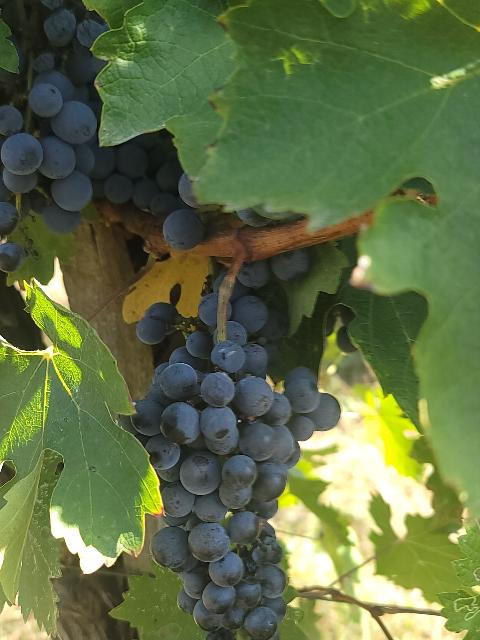grapes: (131, 295, 340, 640)
